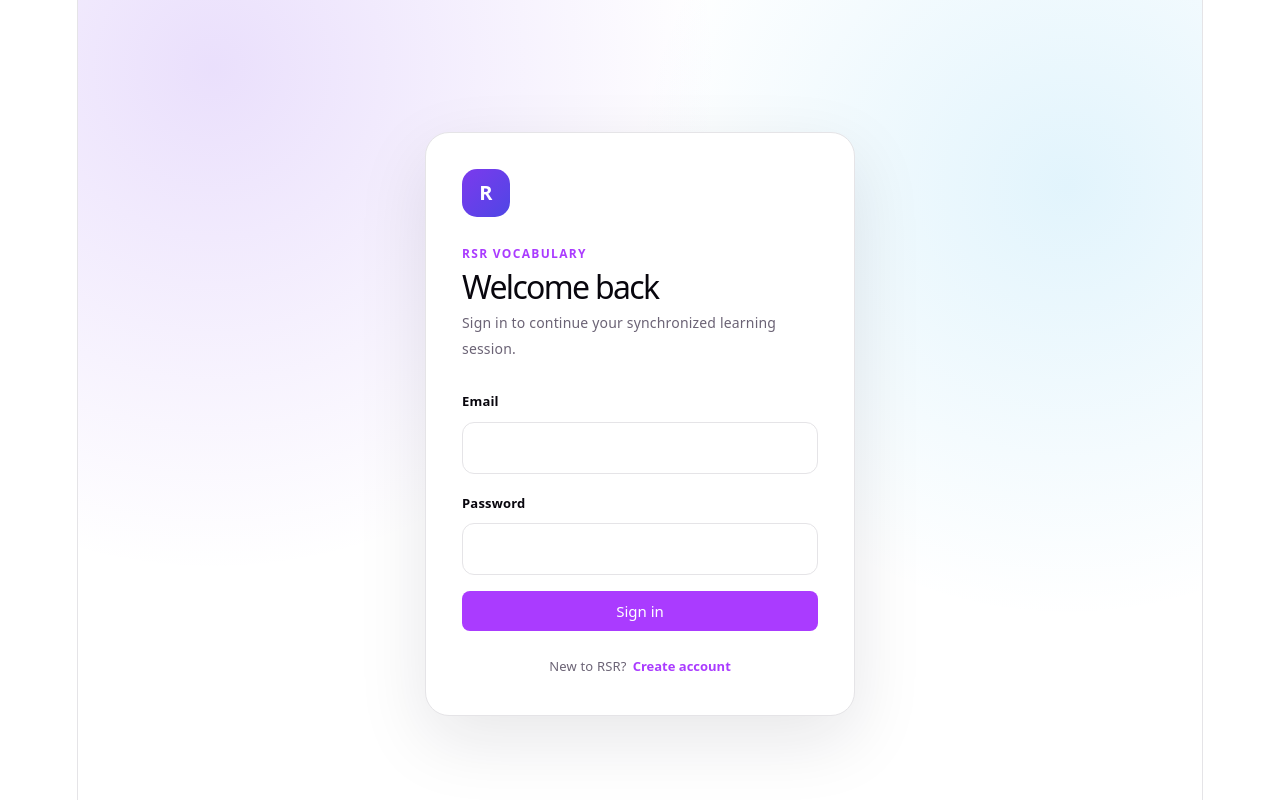
Test: AppGate authentication › shows confirmation instructions after sign-up
Click the button "Create account" at [682, 666], box [633,653,731,679]
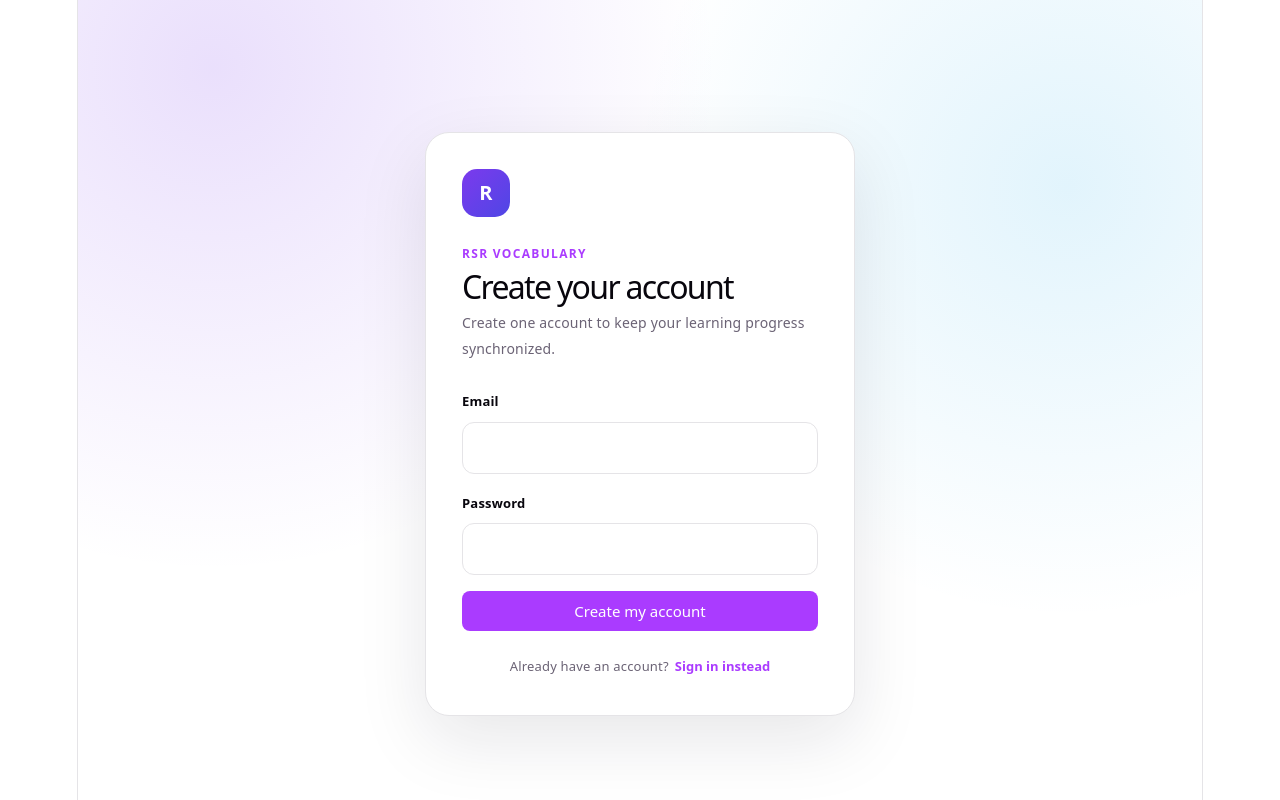
Type "new@example.com" into the field labelled "Email" at [640, 448], box [462,422,818,474]
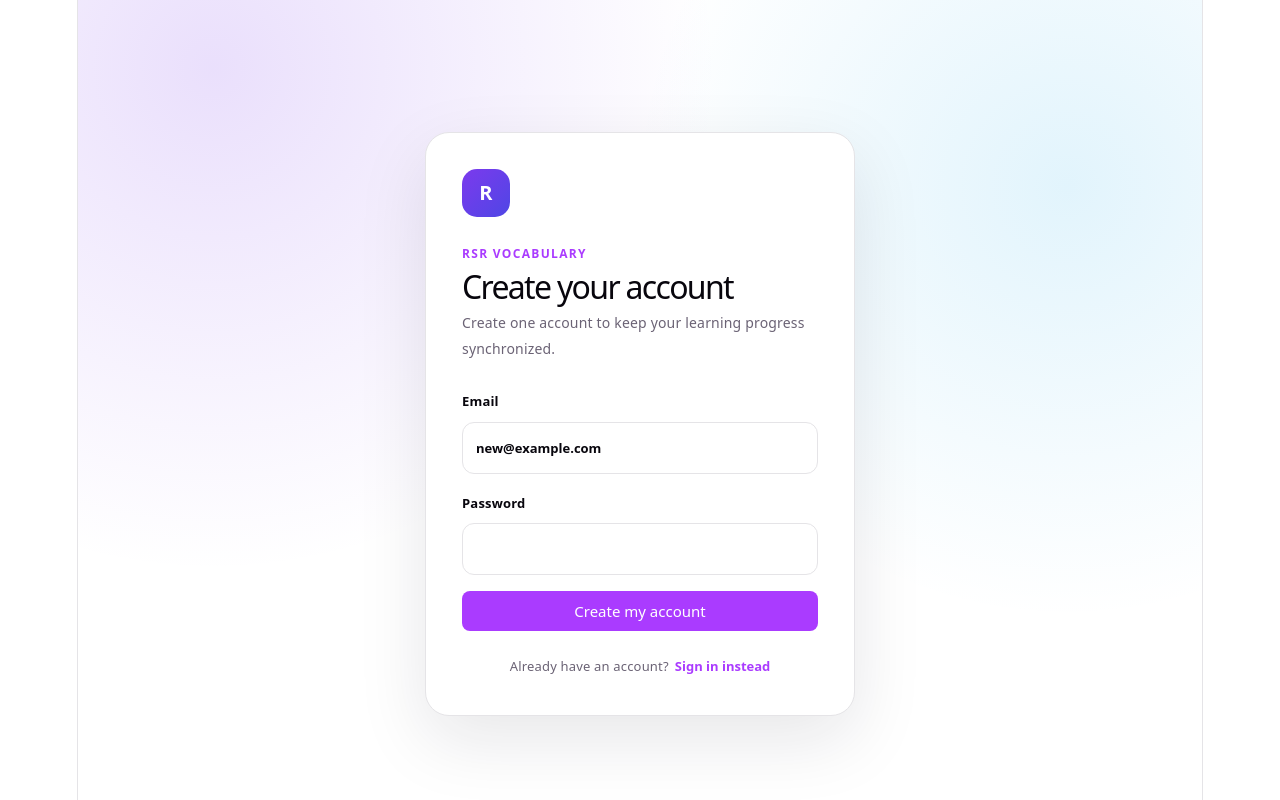
Type "a-secure-password" into the password field labelled "Password" at [640, 549], box [462,523,818,575]
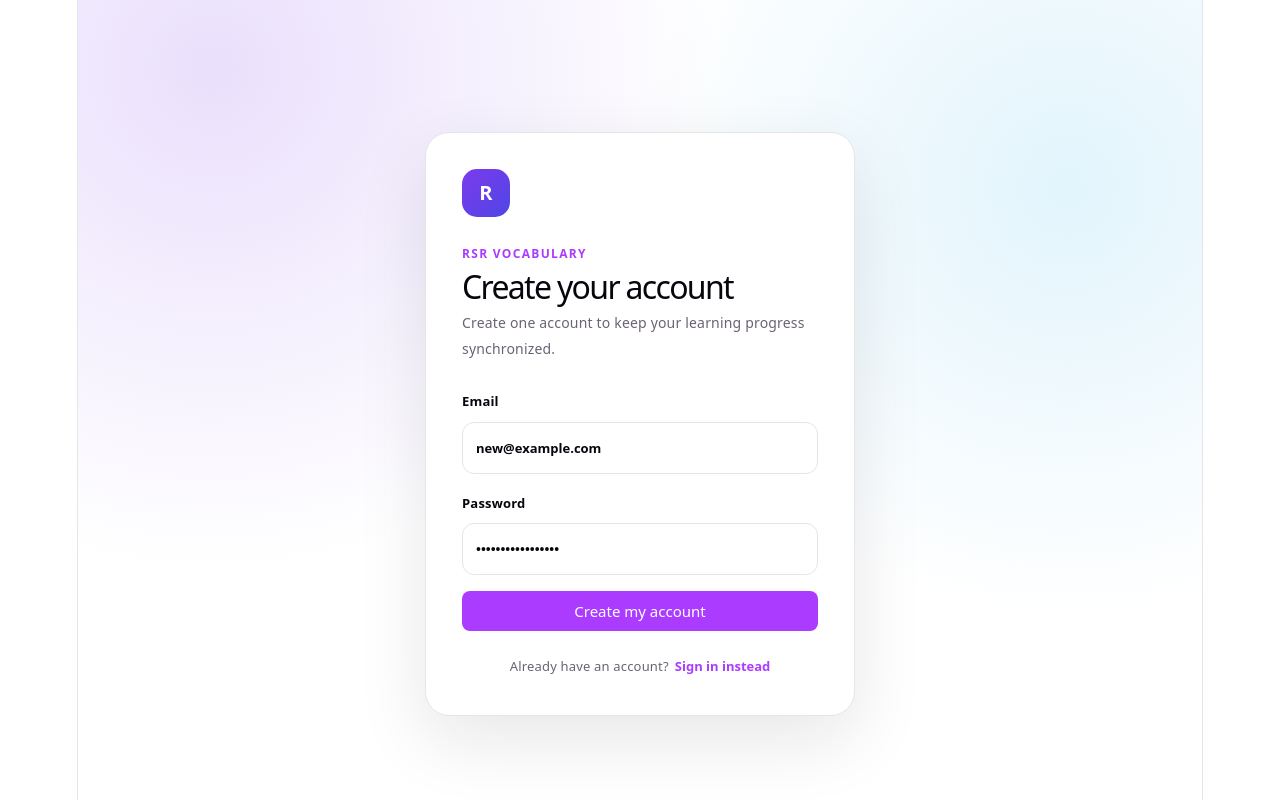
Click the button "Create my account" at [640, 611], box [462,591,818,631]
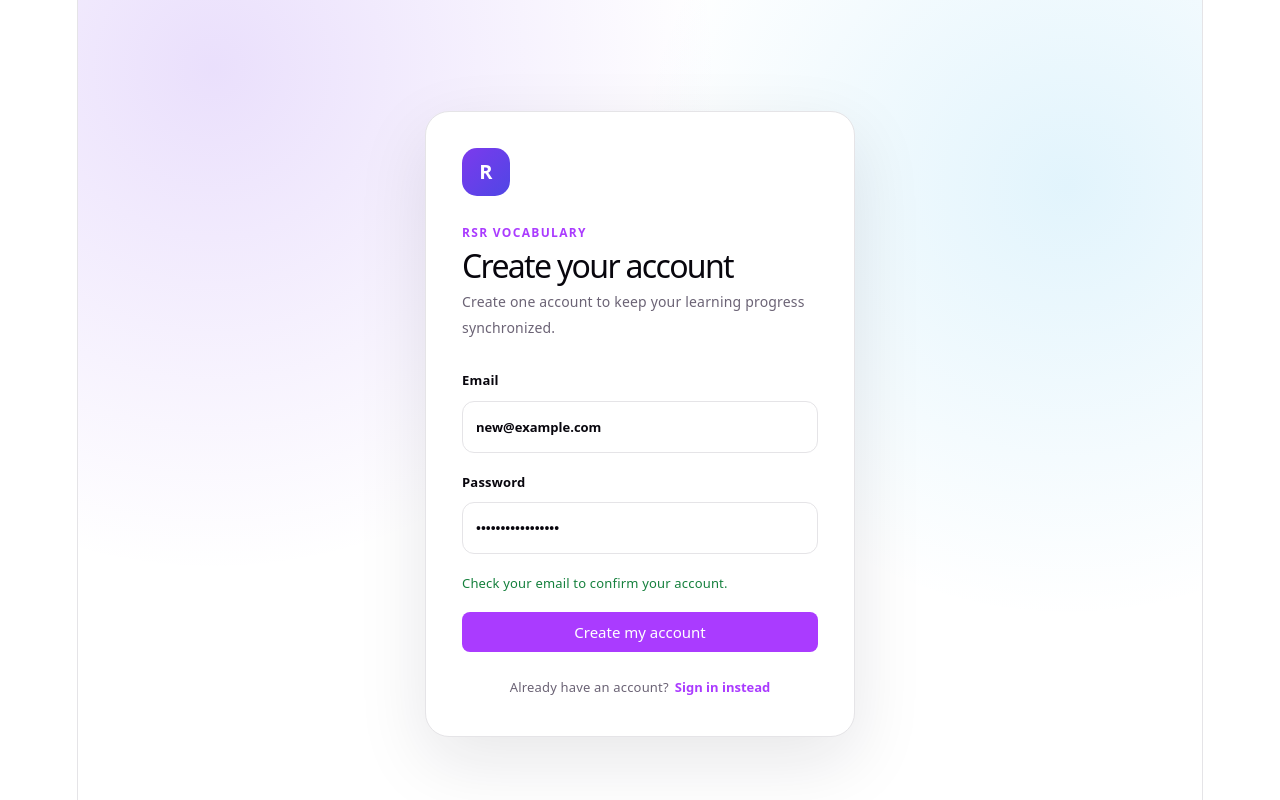
Check: the text "Check your email to confirm your account." is shown, box [462,574,728,592]
